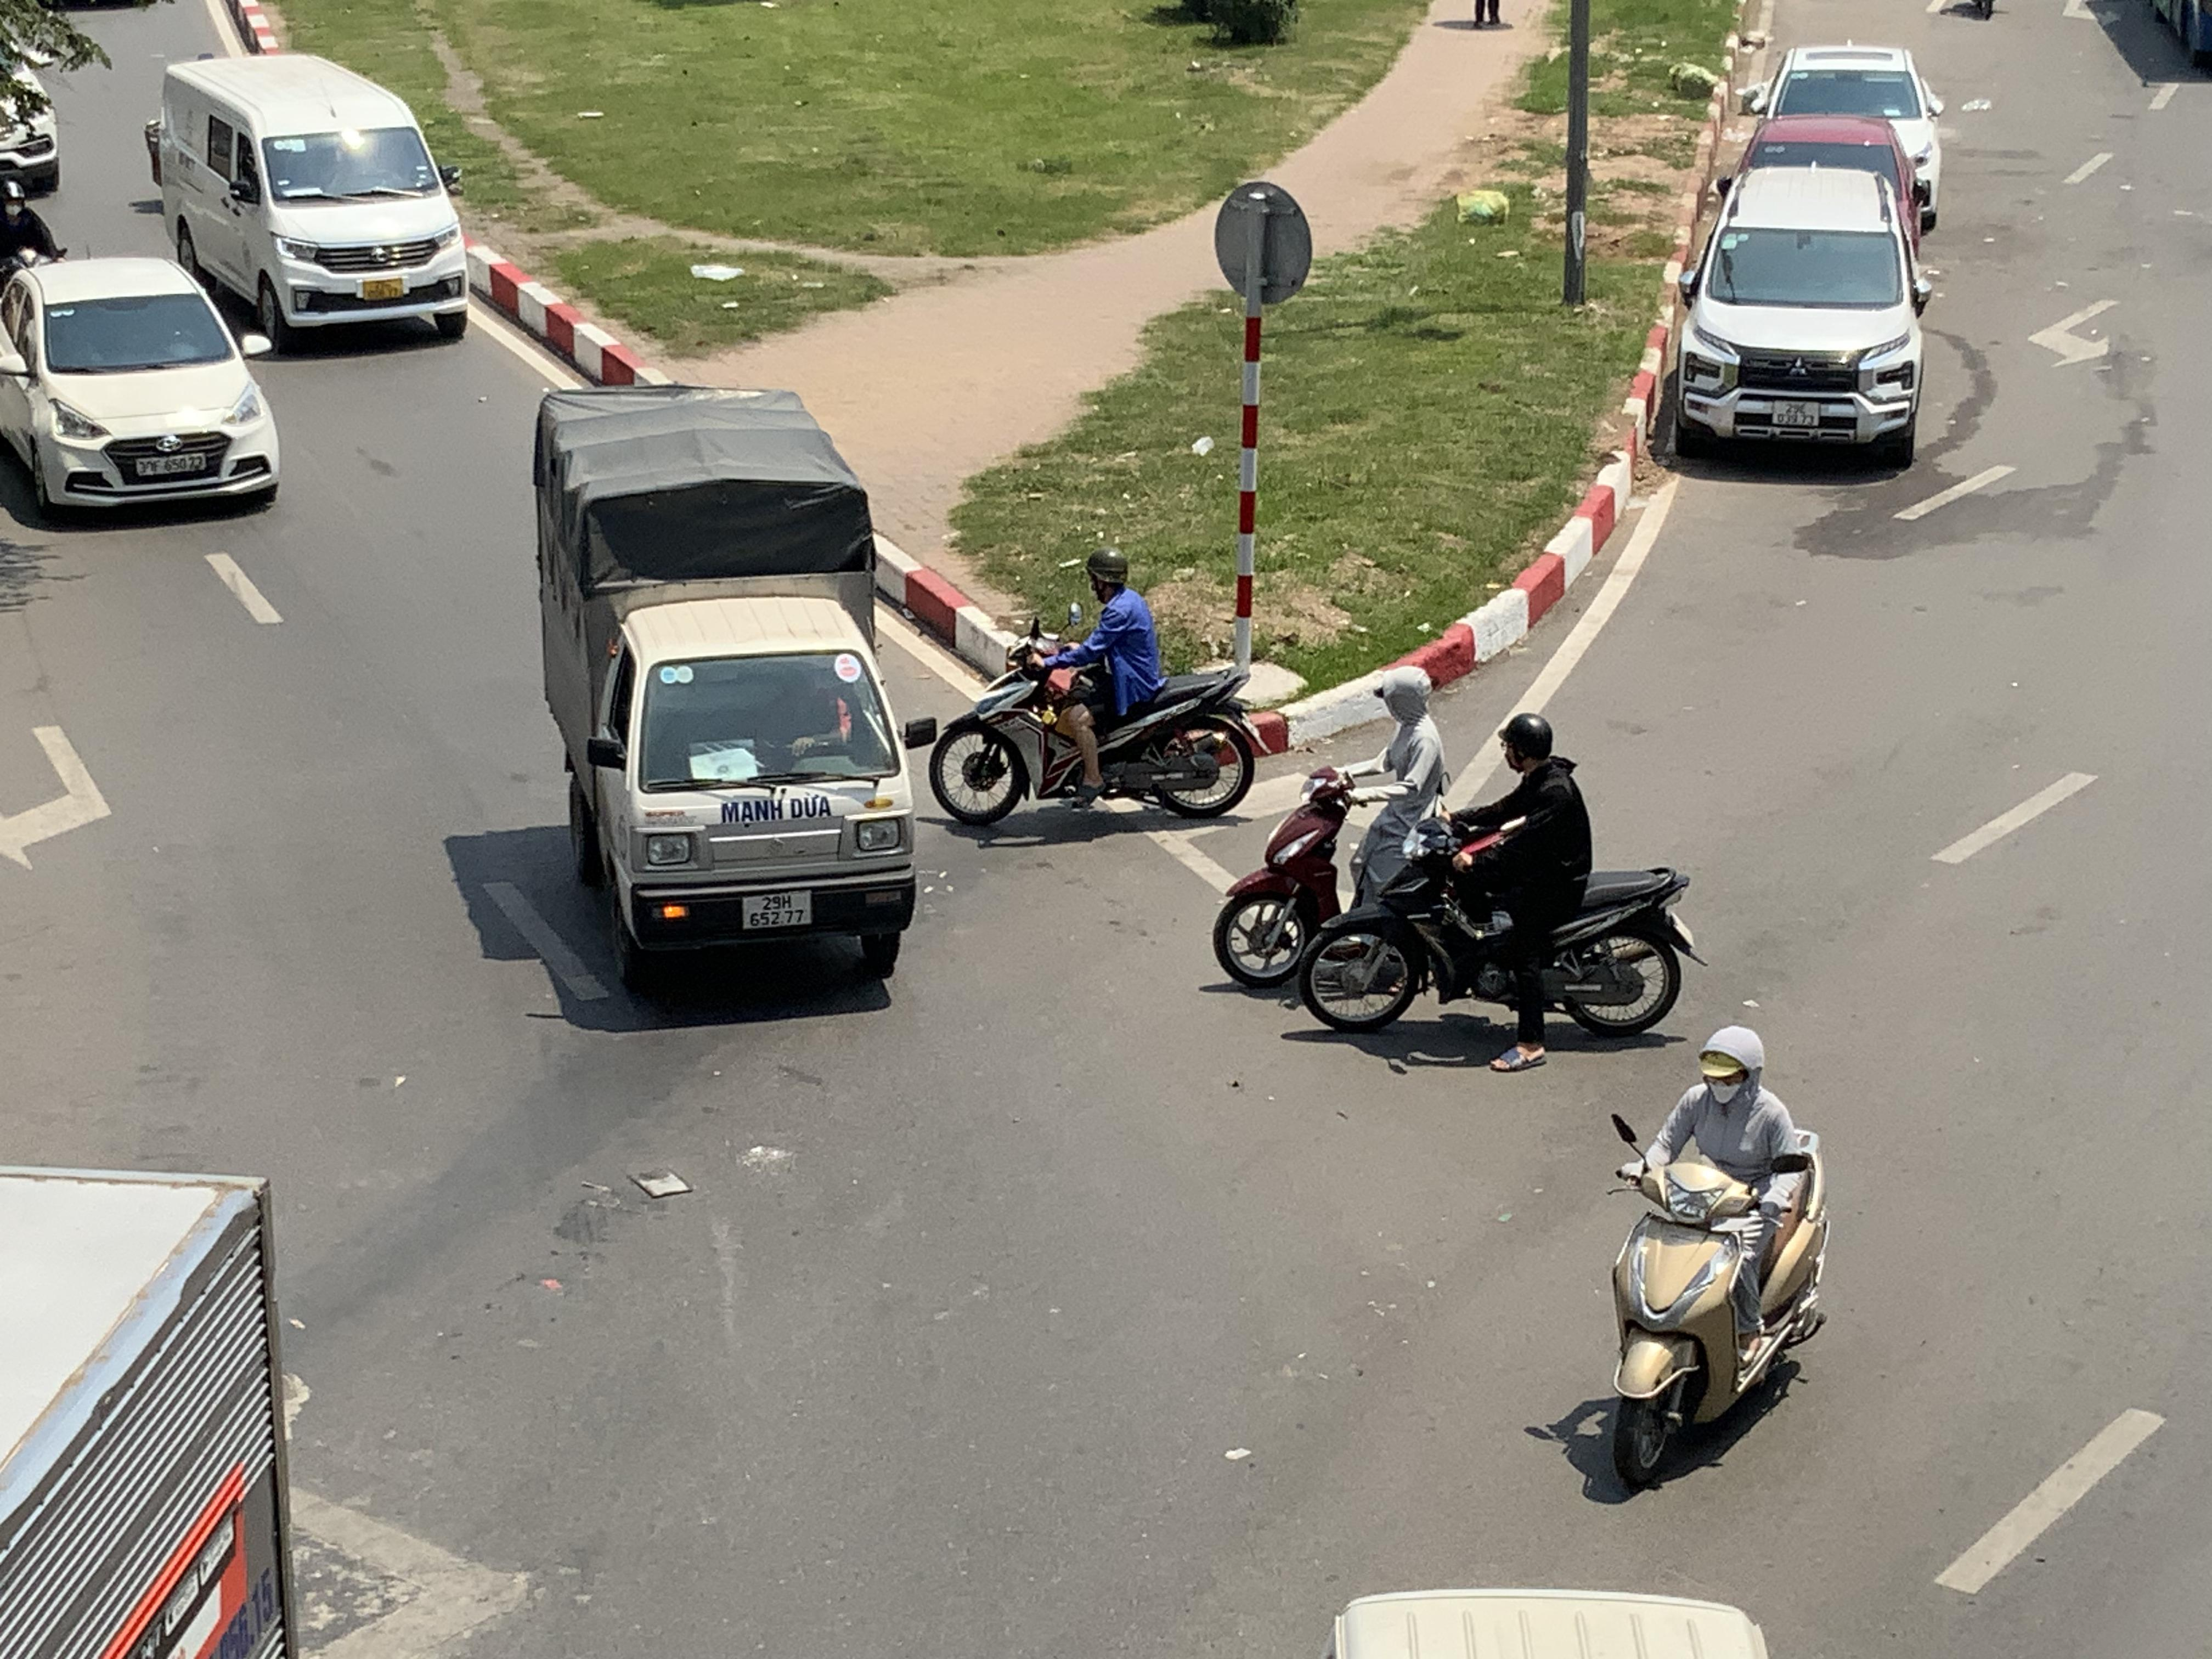BSD: (136, 453, 206, 476)
BSV: (744, 892, 812, 929), (1771, 401, 1820, 427), (362, 277, 404, 301)
car: (143, 51, 470, 354), (1665, 164, 1937, 471), (0, 254, 284, 523), (1738, 44, 1946, 232)
motorbike: (1291, 709, 1705, 1051), (1604, 1023, 1831, 1497), (925, 547, 1270, 830), (1211, 666, 1454, 988)
truck: (526, 378, 927, 997), (0, 1161, 314, 1657)
